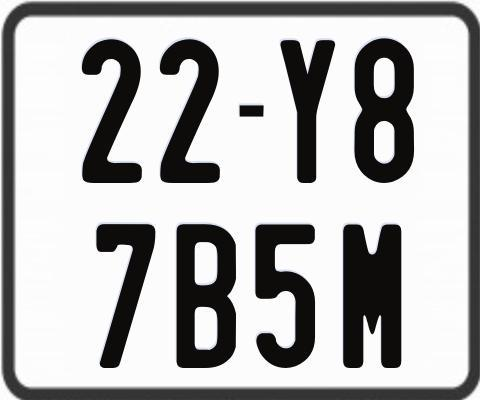2: (80, 39, 146, 185), (157, 36, 217, 181)
5: (254, 222, 317, 370)
7: (95, 222, 158, 370)
8: (352, 36, 413, 181)
B: (177, 222, 236, 368)
M: (341, 223, 402, 373)
Y: (278, 39, 336, 184)
